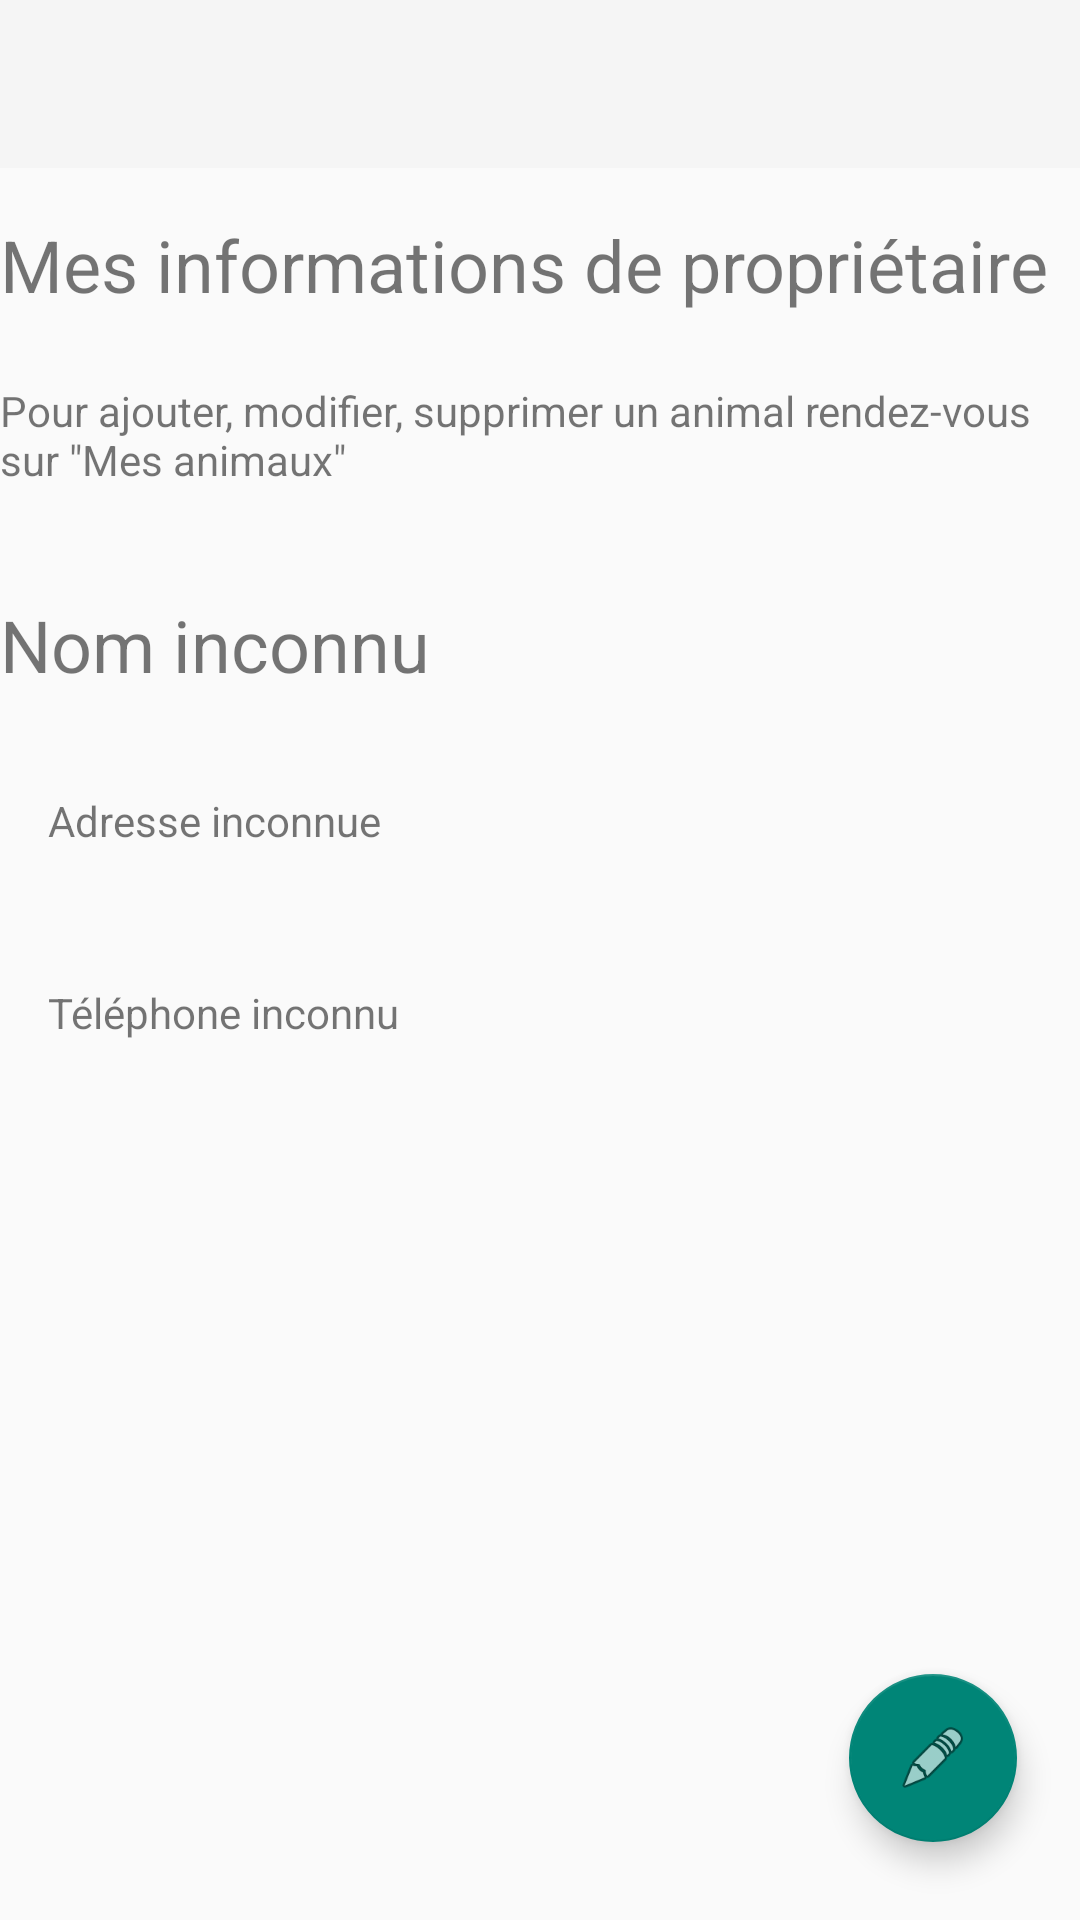

Named icons in this screenshot (1080px×1920px) and their centers, [x,y]:
edit: [933,1758]
